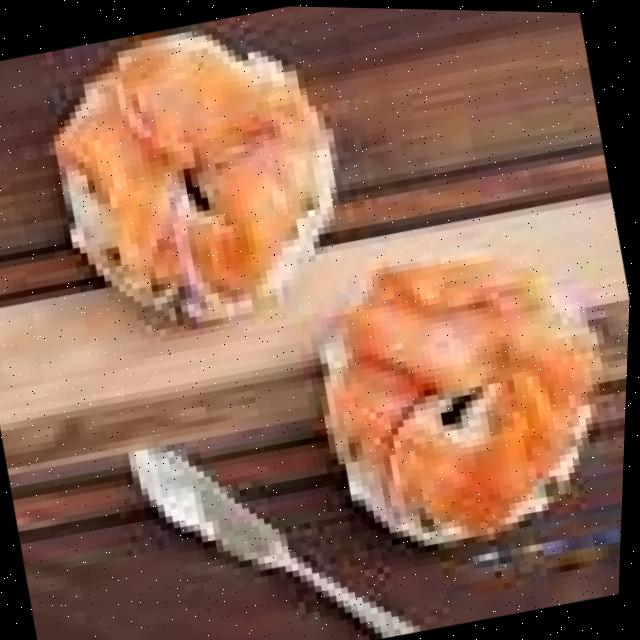Bagel: (55, 32, 332, 322), (324, 255, 594, 540)
